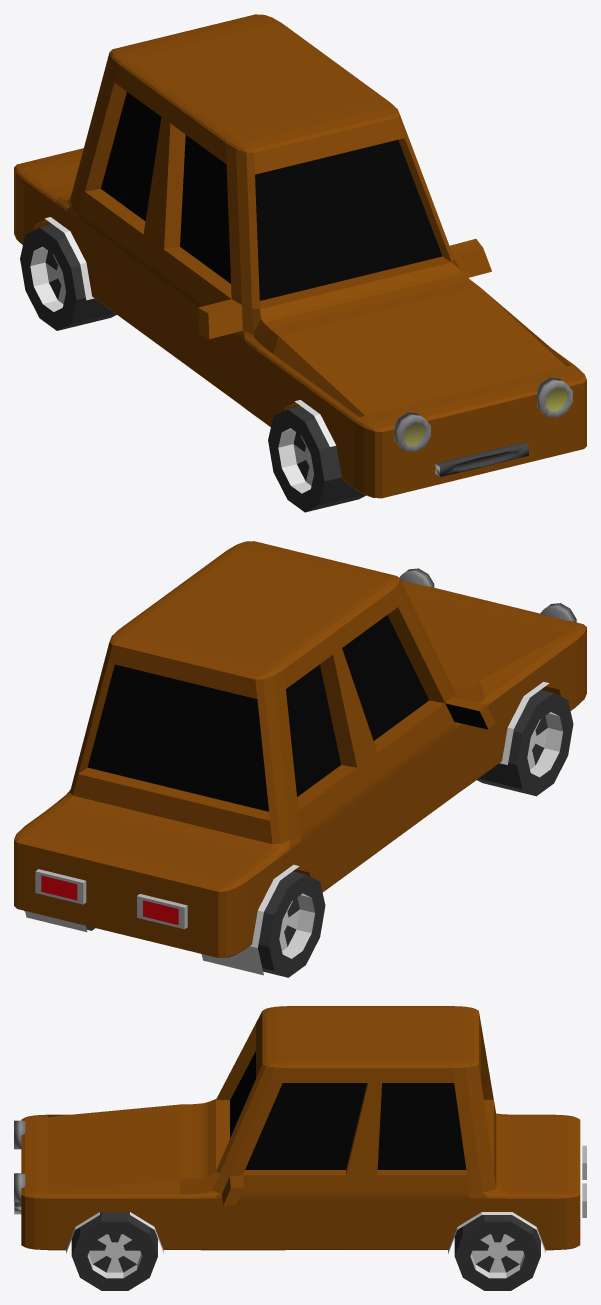
The model's file is car.glb.
3 renders of one model, top to bottom at view 1: azimuth 30°, elevation 25°; view 2: azimuth 150°, elevation 25°; view 3: azimuth 270°, elevation 25°, orthographic. The views are drawn at different scales.
Visible parts, largest first — view 1: Cube, Cylinder.007, Cylinder.004, Cylinder.001, Cylinder, Cylinder.002; view 2: Cube, Cylinder.007, Cylinder.002, Cube.001, Cube.003; view 3: Cube, Cylinder.007, Cylinder.002.
Part boxes in pixels (x1,y1,x2,y2): Cube: (14,14,586,498); Cylinder.007: (20,224,365,512); Cylinder.004: (435,442,528,477); Cylinder.001: (394,412,430,452); Cylinder: (536,377,572,417); Cylinder.002: (45,217,335,446); Cube: (14,541,586,957); Cylinder.007: (24,690,573,977); Cylinder.002: (25,681,549,975); Cube.001: (35,869,86,904); Cube.003: (137,894,187,929); Cube: (21,1006,580,1250); Cylinder.007: (71,1212,540,1290); Cylinder.002: (66,1212,545,1253).
Size of the model in its own units: 3.28 by 2.99 by 7.4.
